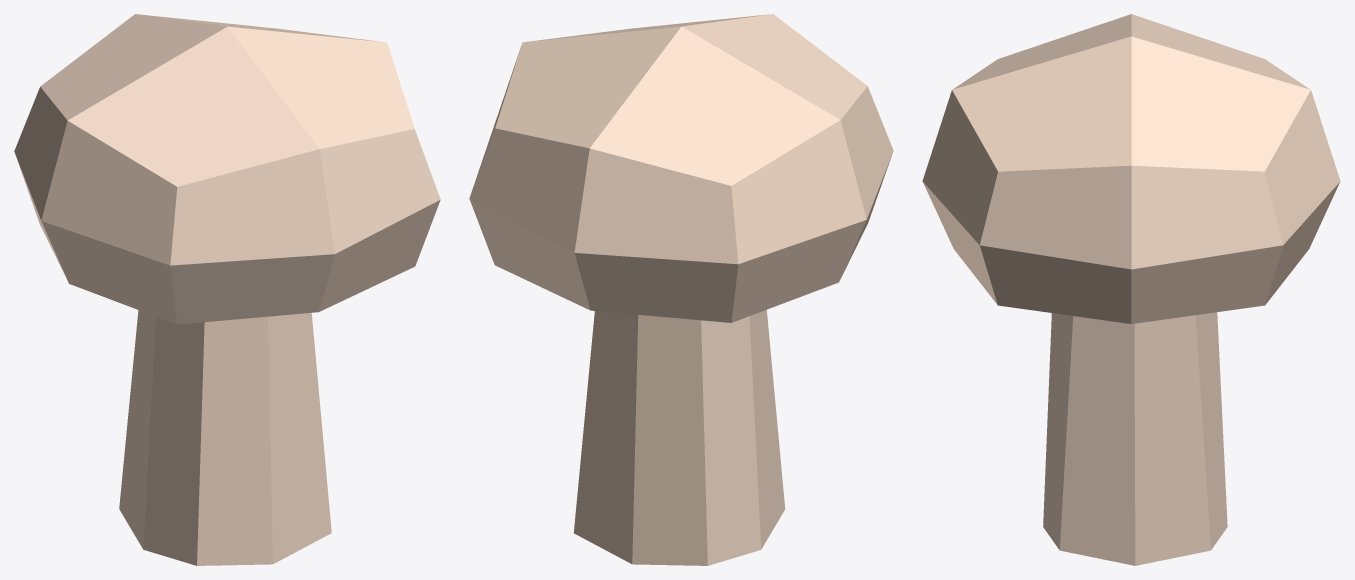
Rendered from Sappitatti.fbx.
3 renders of one model, left to right at view 1: azimuth 30°, elevation 25°; view 2: azimuth 150°, elevation 25°; view 3: azimuth 270°, elevation 25°, orthographic. The views are drawn at different scales.
Parts seen in each view (by area): view 1: Cap.008, Leg.008; view 2: Cap.008, Leg.008; view 3: Cap.008, Leg.008.
Part boxes in pixels (<box>): Cap.008: <box>14,14,440,324</box>; Leg.008: <box>119,310,331,565</box>; Cap.008: <box>469,14,893,322</box>; Leg.008: <box>573,310,785,565</box>; Cap.008: <box>922,14,1340,323</box>; Leg.008: <box>1043,312,1227,565</box>.
Bounding box in the file's own units: 15.23 × 20.75 × 15.23.
